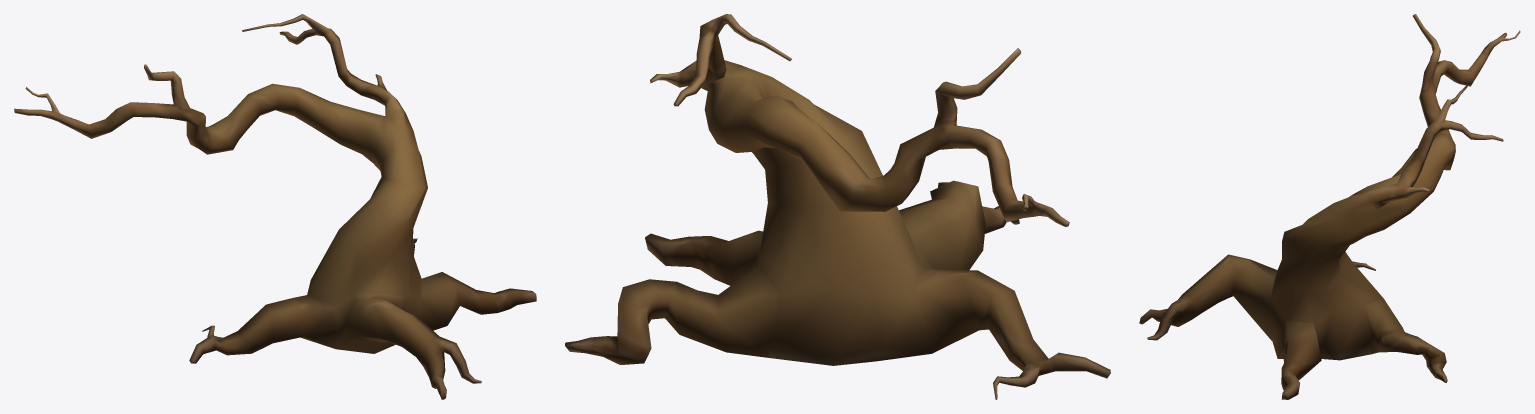
File: Tree_001.fbx
The picture shows the model from 3 angles, left to right: view 1: azimuth 30°, elevation 25°; view 2: azimuth 150°, elevation 25°; view 3: azimuth 270°, elevation 25°; orthographic projection. The views are drawn at different scales.
Visible parts, largest first — view 1: Tree001_low; view 2: Tree001_low; view 3: Tree001_low.
Part boxes in pixels (x1,y1,x2,y2): Tree001_low: (14, 14, 536, 399); Tree001_low: (565, 14, 1110, 399); Tree001_low: (1139, 14, 1520, 399).
Size of what is drawn, in the model's own units: 465 by 308 by 414.
Materials: 1 (1 with a texture image).
